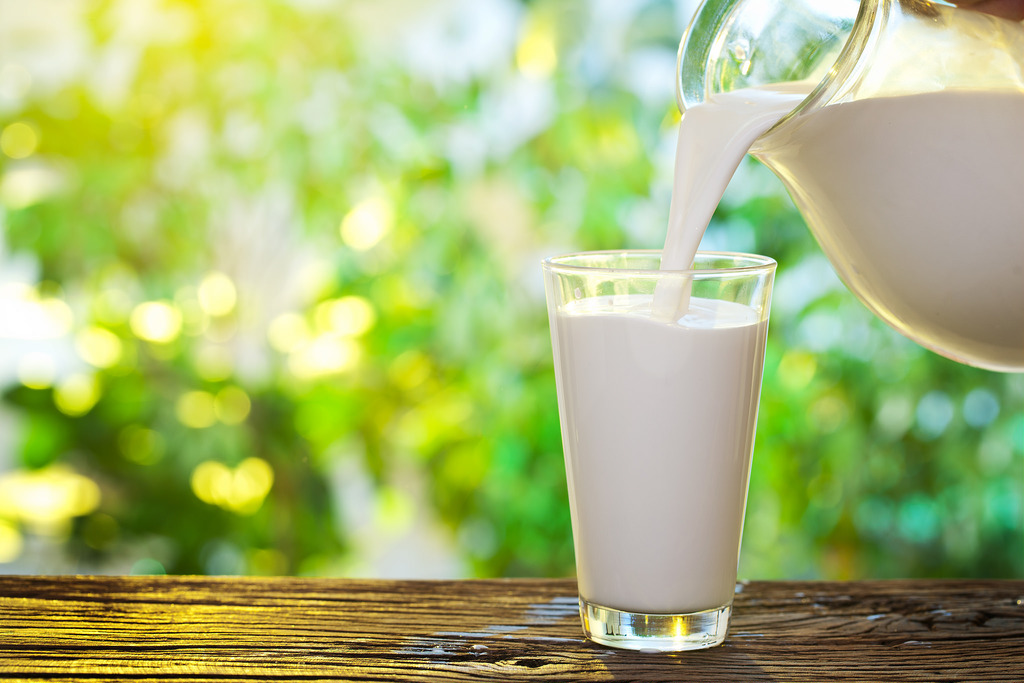glass of milk: (657, 1, 1022, 381), (537, 252, 784, 666)
